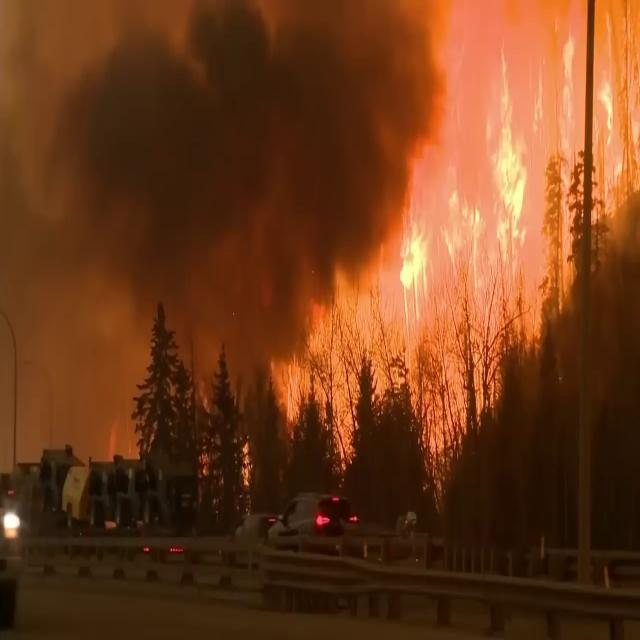Fire: (379, 8, 640, 430), (270, 346, 320, 426)
Smoke: (0, 1, 432, 467)
